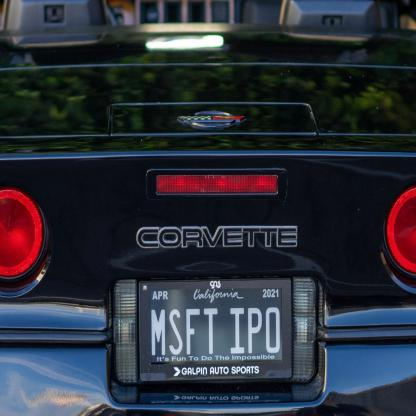Plates: (104, 266, 324, 399)
